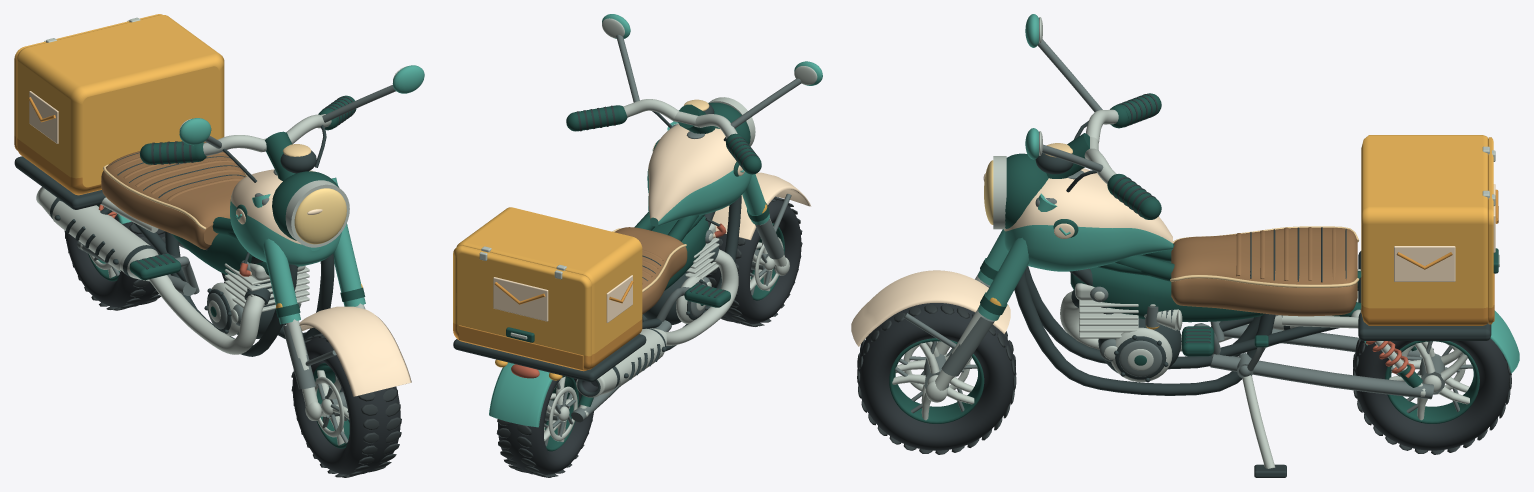
The model's file is monkey-delivery.glb.
3 renders of one model, left to right at view 1: azimuth 30°, elevation 25°; view 2: azimuth 150°, elevation 25°; view 3: azimuth 270°, elevation 25°, orthographic. The views are drawn at different scales.
Parts seen in each view (by area): view 1: Delivery_Box, Fork_Headlamp_and_Mirrors, Front_Wheel_Mesh, Solo_Saddle, High_Side_Exhaust, Mudguards.001, Two_Tone_Tank, Motor, Chassis_and_Rear_Suspension, Rear_Wheel_Mesh, Swept_Handlebar, Side_Covers (+4 smaller); view 2: Lid_Shell, Delivery_Box, Two_Tone_Tank, Fork_Headlamp_and_Mirrors, Front_Wheel_Mesh, Rear_Wheel_Mesh, High_Side_Exhaust, Swept_Handlebar, Chassis_and_Rear_Suspension, Solo_Saddle, Mudguards, Motor (+5 smaller); view 3: Delivery_Box, Front_Wheel_Mesh, Solo_Saddle, Chassis_and_Rear_Suspension, Rear_Wheel_Mesh, Fork_Headlamp_and_Mirrors, Two_Tone_Tank, Motor, Mudguards.001, Side_Covers, Swept_Handlebar, Rack_Deck (+7 smaller).
Part boxes in pixels (x1,y1,x2,y2): Delivery_Box: [17, 14, 224, 195]; Fork_Headlamp_and_Mirrors: [179, 65, 424, 420]; Front_Wheel_Mesh: [291, 333, 401, 477]; Solo_Saddle: [101, 141, 247, 250]; High_Side_Exhaust: [36, 187, 270, 354]; Mudguards.001: [299, 306, 411, 396]; Two_Tone_Tank: [230, 169, 341, 266]; Motor: [204, 252, 309, 338]; Chassis_and_Rear_Suspension: [77, 204, 334, 356]; Rear_Wheel_Mesh: [64, 204, 165, 310]; Swept_Handlebar: [140, 95, 356, 164]; Side_Covers: [172, 233, 298, 275]; Lid_Shell: [453, 245, 591, 371]; Delivery_Box: [456, 207, 642, 369]; Two_Tone_Tank: [647, 124, 751, 226]; Fork_Headlamp_and_Mirrors: [602, 14, 822, 275]; Front_Wheel_Mesh: [706, 196, 802, 326]; Rear_Wheel_Mesh: [496, 376, 593, 477]; High_Side_Exhaust: [576, 247, 738, 397]; Swept_Handlebar: [566, 99, 761, 174]; Chassis_and_Rear_Suspension: [495, 195, 741, 422]; Solo_Saddle: [612, 227, 687, 314]; Mudguards: [489, 362, 552, 427]; Motor: [643, 218, 726, 324]; Delivery_Box: [1361, 135, 1489, 325]; Front_Wheel_Mesh: [857, 303, 1016, 454]; Solo_Saddle: [1170, 226, 1359, 316]; Chassis_and_Rear_Suspension: [1014, 244, 1433, 399]; Rear_Wheel_Mesh: [1353, 338, 1511, 454]; Fork_Headlamp_and_Mirrors: [925, 14, 1103, 402]; Two_Tone_Tank: [1004, 168, 1172, 271]; Motor: [1075, 283, 1182, 382]; Mudguards.001: [851, 270, 1010, 348]; Side_Covers: [1070, 259, 1264, 322]; Swept_Handlebar: [1084, 93, 1161, 219]; Rack_Deck: [1358, 251, 1491, 340].
Bounding box in the file's own units: 0.9656 × 1.3 × 2.11.
